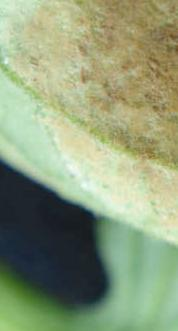Tomato mold leaf: (0, 0, 178, 285)
